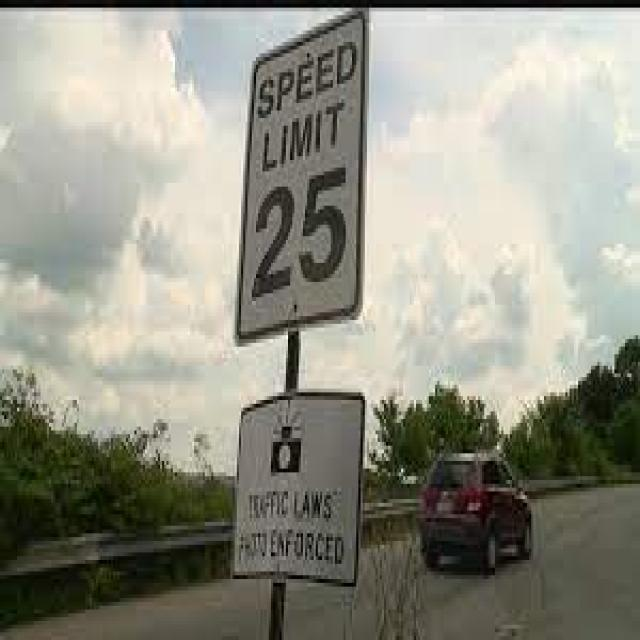speedLimit25: (239, 19, 363, 324)
